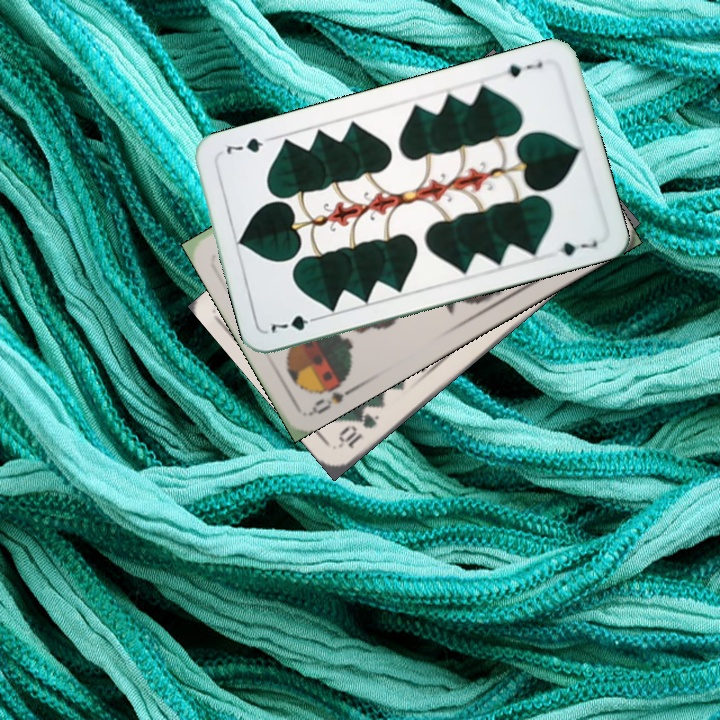G10: (334, 409, 382, 452)
G7: (264, 310, 323, 336), (502, 57, 545, 80)
SO: (306, 370, 361, 418)
